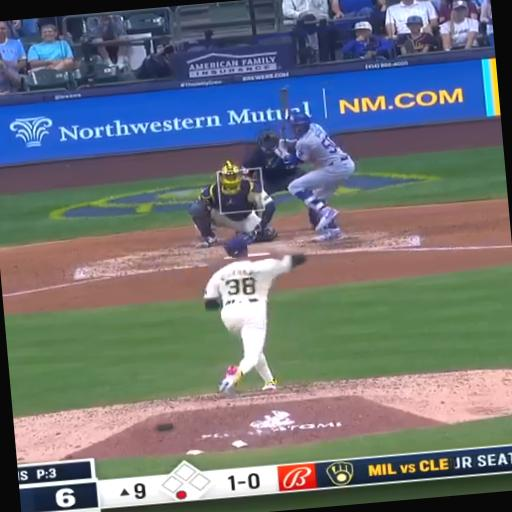bat: (280, 88, 290, 139)
